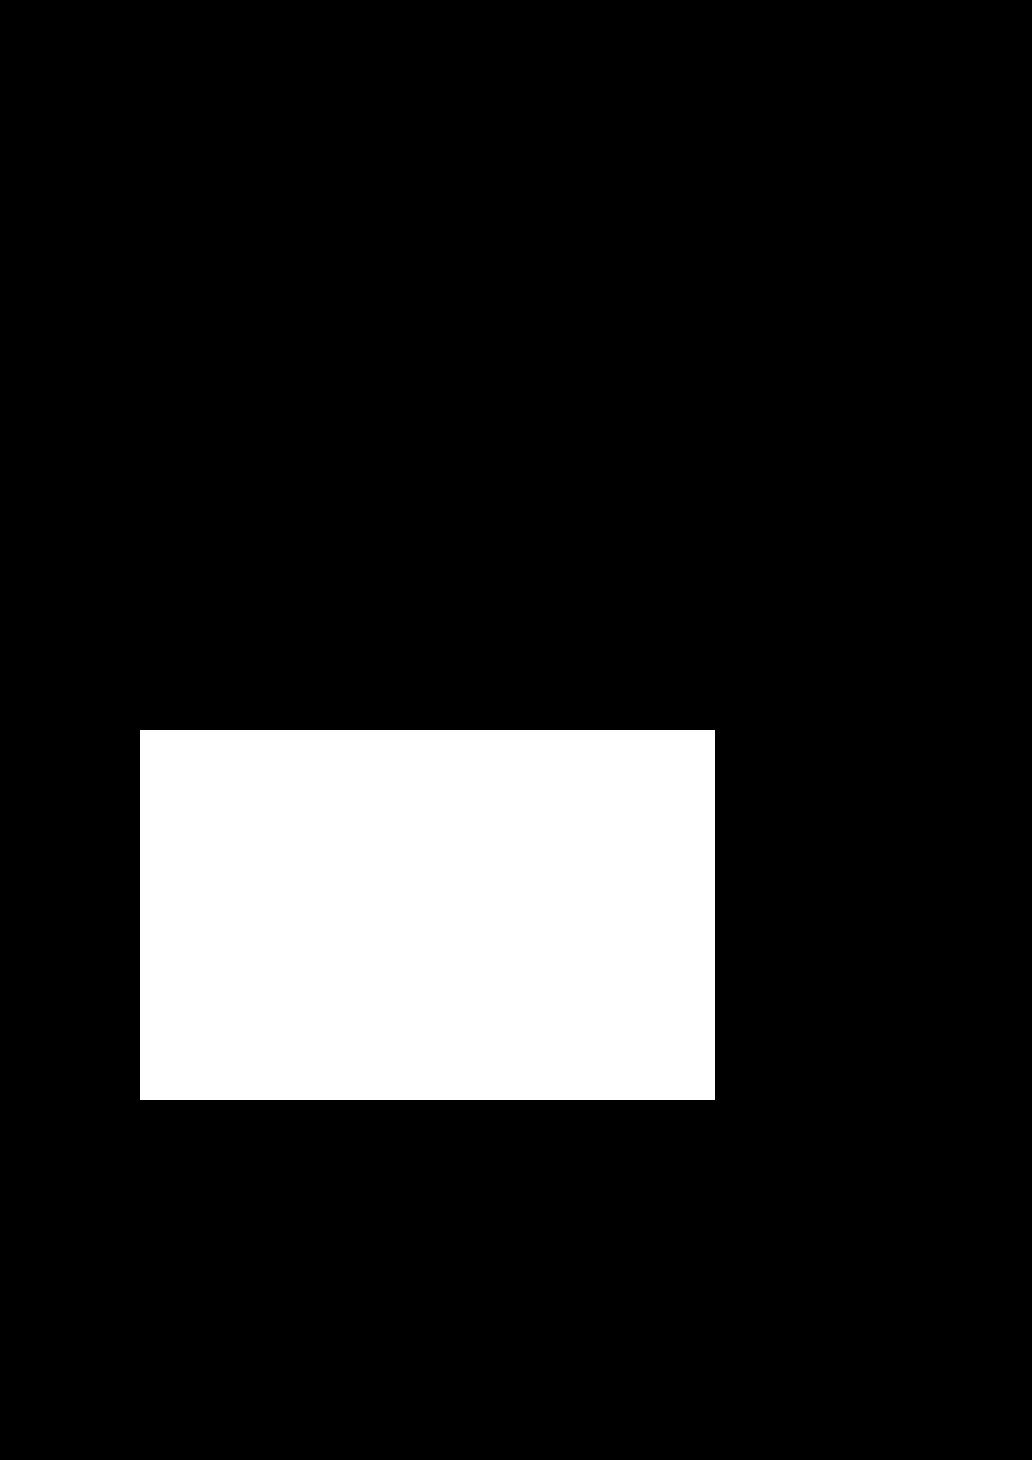table: (140, 731, 714, 1099)
